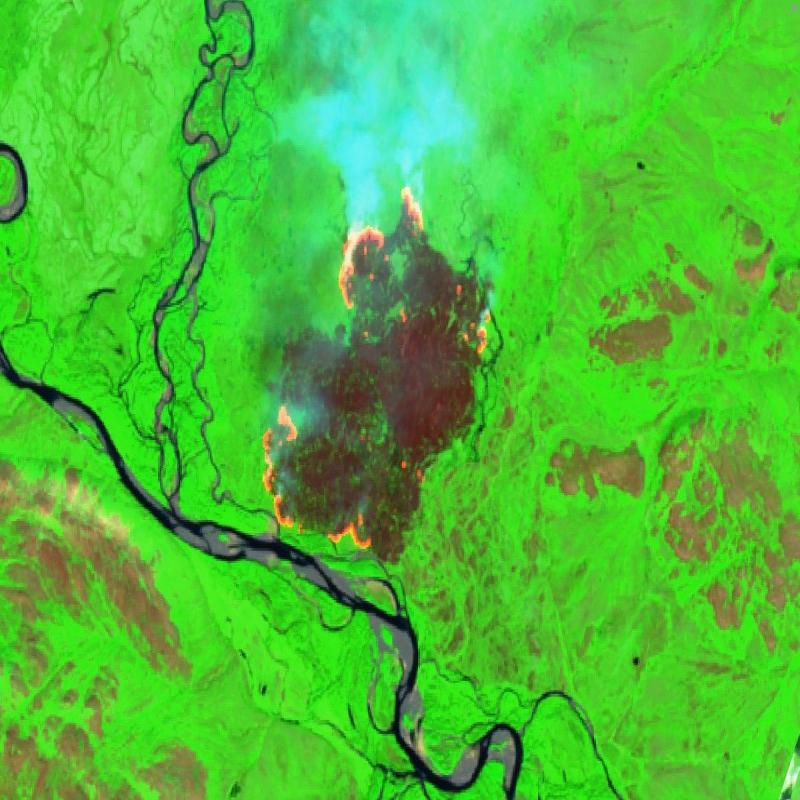fire: (257, 176, 497, 562)
